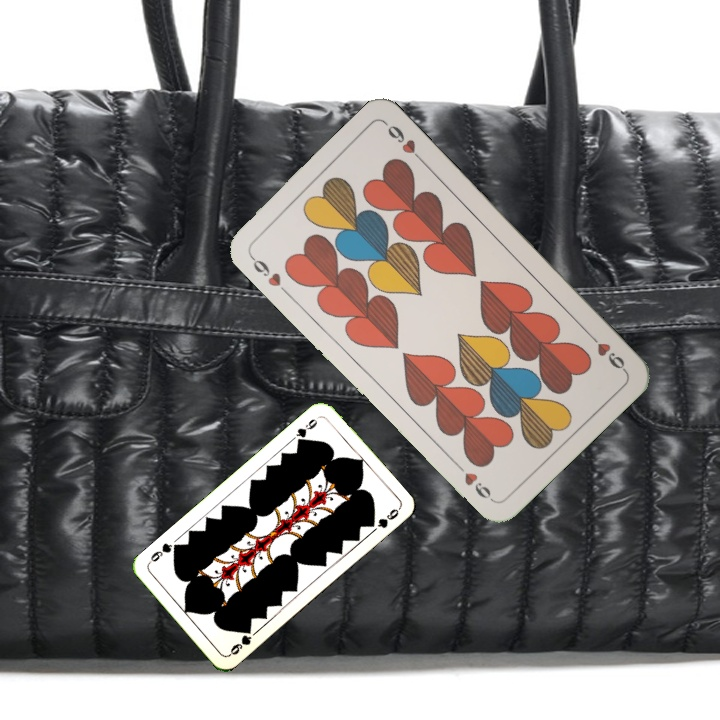G9: (225, 623, 255, 658), (292, 413, 322, 447)
H9: (582, 328, 628, 374), (245, 250, 284, 289)
